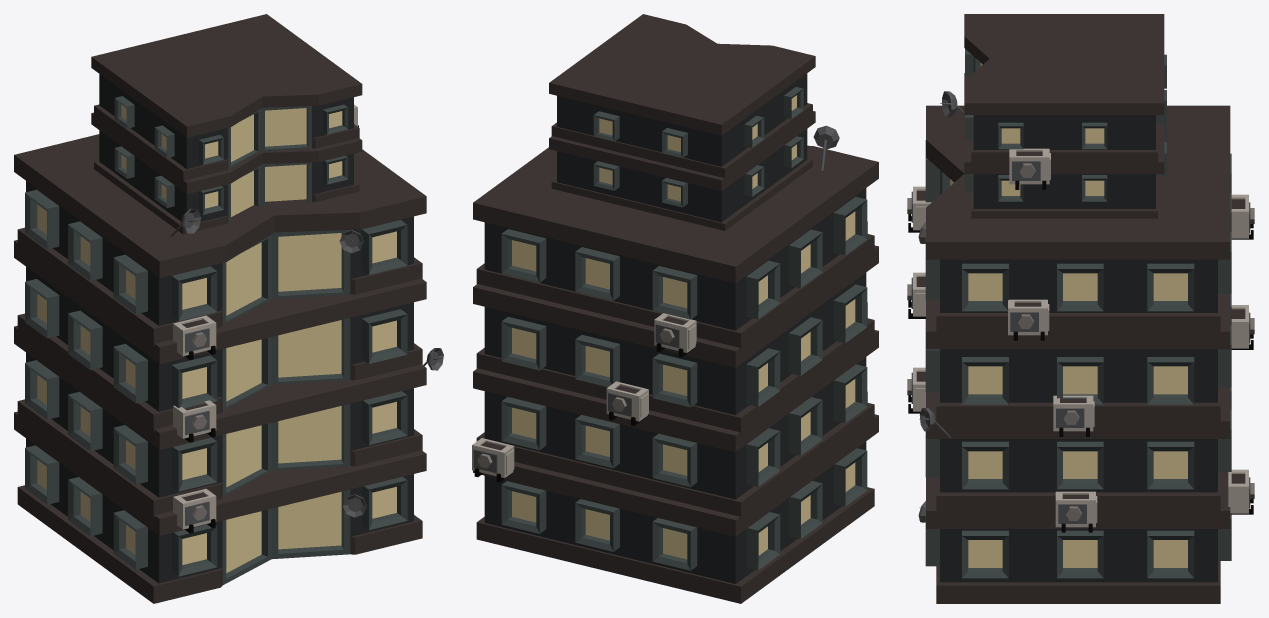
File: BigBuildingB.fbx
3 renders of one model, left to right at view 1: azimuth 30°, elevation 25°; view 2: azimuth 150°, elevation 25°; view 3: azimuth 270°, elevation 25°, orthographic. The views are drawn at different scales.
Visible parts, largest first — view 1: Cube.332; view 2: Cube.332; view 3: Cube.332.
Part boxes in pixels (<box>): Cube.332: <box>14,14,443,603</box>; Cube.332: <box>472,14,878,603</box>; Cube.332: <box>907,14,1254,603</box>.
Bounding box in the file's own units: 5.86 × 8.57 × 5.67.
